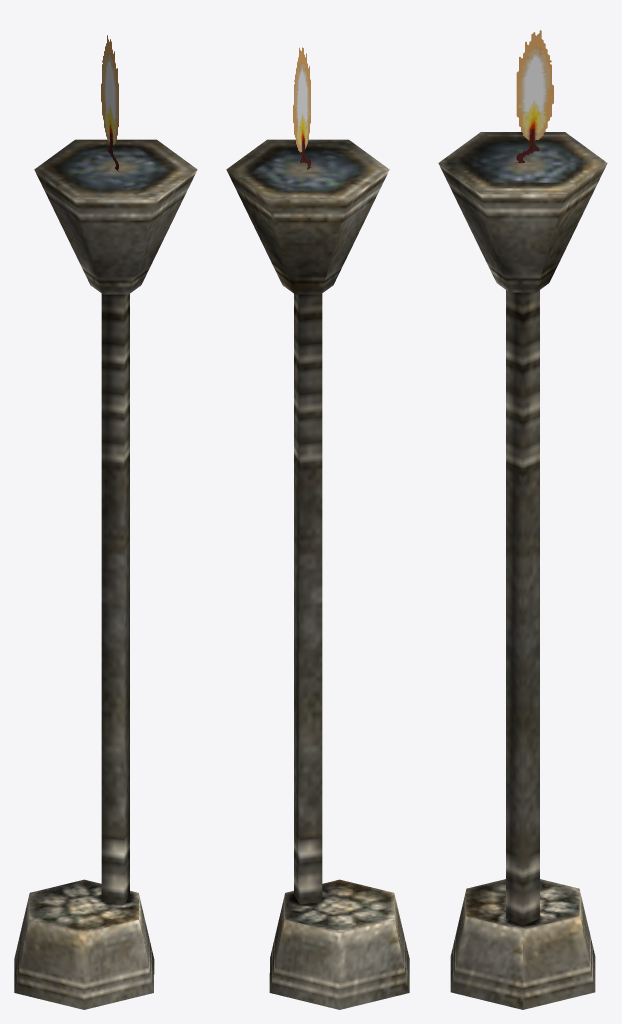
File: temple-lantern.glb
3 renders of one model, left to right at view 1: azimuth 30°, elevation 25°; view 2: azimuth 150°, elevation 25°; view 3: azimuth 270°, elevation 25°, orthographic. The views are drawn at different scales.
Parts seen in each view (by area): view 1: Cylinder01; view 2: Cylinder01; view 3: Cylinder01.
Part boxes in pixels (x1=…): Cylinder01: x1=14, y1=35, x2=197, y2=1009; Cylinder01: x1=226, y1=47, x2=409, y2=1009; Cylinder01: x1=438, y1=30, x2=607, y2=1009.
Size of the model in its own units: 0.00305 by 0.0169 by 0.00265.
1 material, 1 textured.
